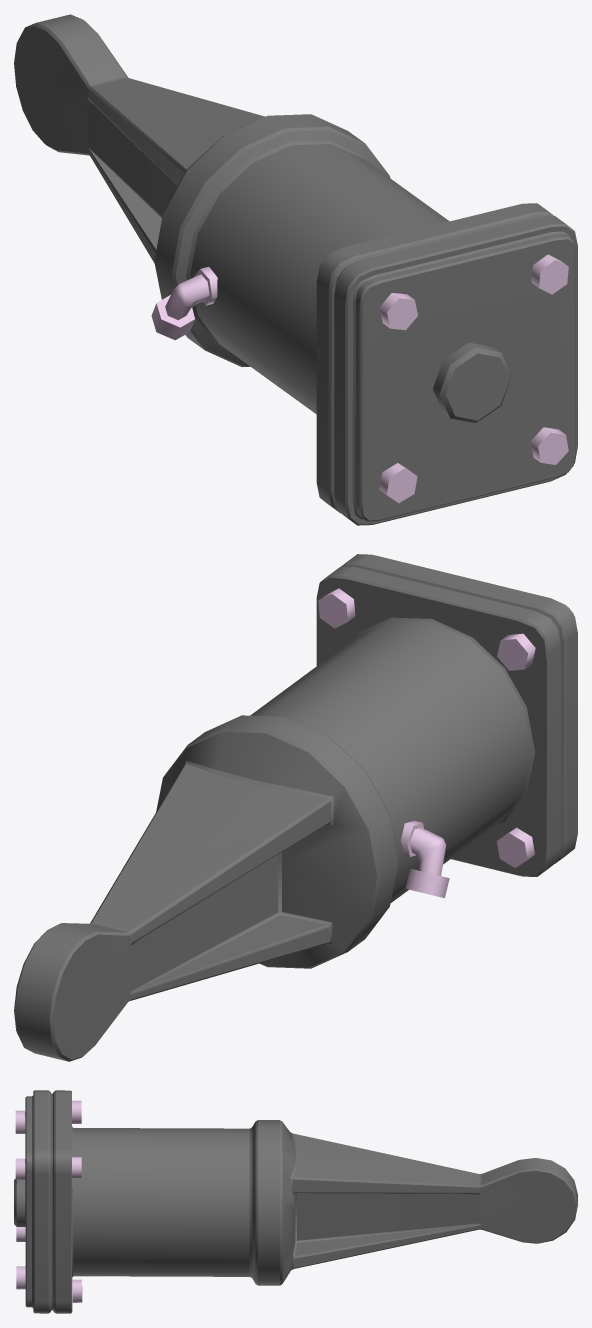
Rendered from Earthmover_Body_TiltCylinder_01a_snaps005.fbx.
3 views of the same model, one above another, from view 1: azimuth 30°, elevation 25°; view 2: azimuth 150°, elevation 25°; view 3: azimuth 270°, elevation 25° (orthographic). The views are drawn at different scales.
Visible parts, largest first — view 1: Earthmover_Body_TiltCylinder_01a_snaps005; view 2: Earthmover_Body_TiltCylinder_01a_snaps005; view 3: Earthmover_Body_TiltCylinder_01a_snaps005.
Boxes of the visible parts, box(x1,y1,x2,y2) form: Earthmover_Body_TiltCylinder_01a_snaps005: box(14, 14, 577, 525); Earthmover_Body_TiltCylinder_01a_snaps005: box(14, 554, 577, 1061); Earthmover_Body_TiltCylinder_01a_snaps005: box(14, 1090, 577, 1313).
Size of the model in its own units: 27.71 by 26.15 by 82.11.
